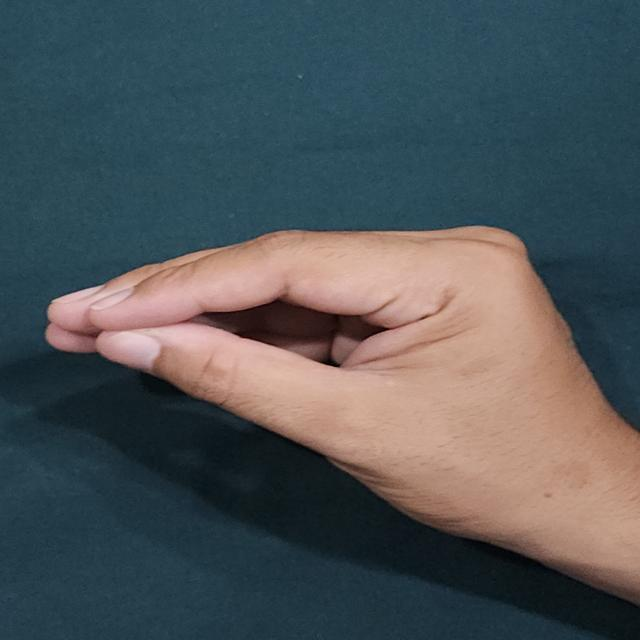ج: (36, 216, 640, 579)
